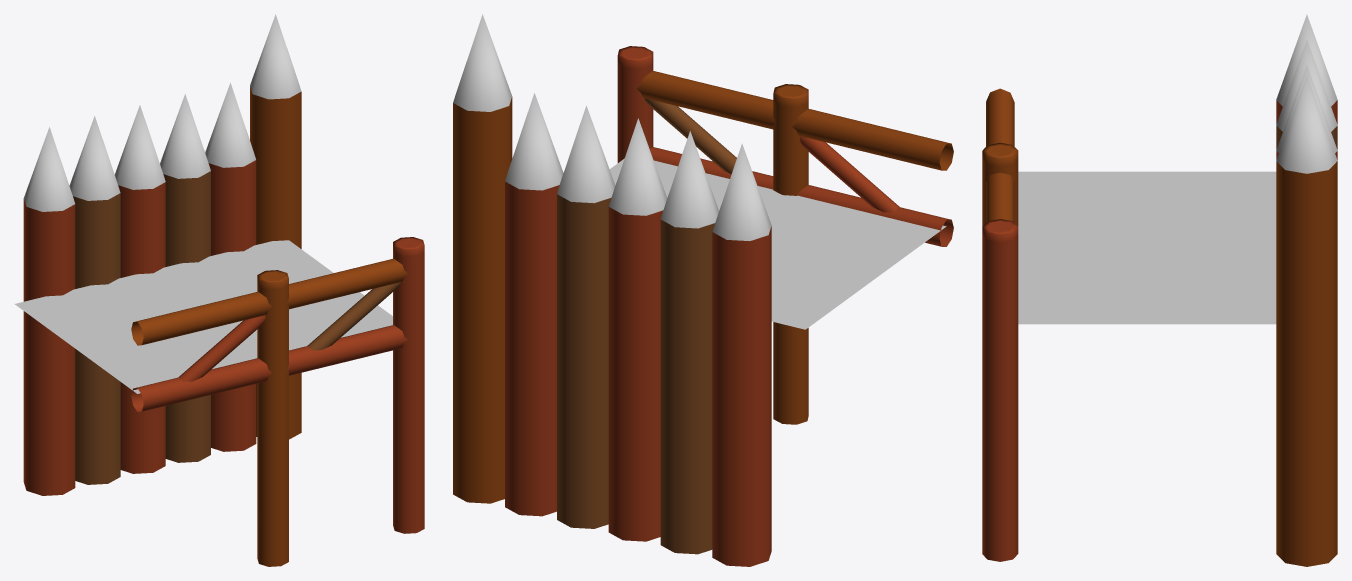
File: PalisadeWall.fbx
The picture shows the model from 3 angles, left to right: view 1: azimuth 30°, elevation 25°; view 2: azimuth 150°, elevation 25°; view 3: azimuth 270°, elevation 25°; orthographic projection. The views are drawn at different scales.
Parts seen in each view (by area): view 1: WallPoles, WallWalkway, WallPoleTips; view 2: WallPoles, WallPoleTips, WallWalkway; view 3: WallPoles, WallWalkway, WallPoleTips.
Boxes of the visible parts, bbox=[...] form: WallPoles: bbox=[23, 87, 424, 566]; WallWalkway: bbox=[15, 240, 392, 393]; WallPoleTips: bbox=[24, 14, 301, 211]; WallPoles: bbox=[453, 46, 953, 566]; WallPoleTips: bbox=[453, 14, 771, 240]; WallWalkway: bbox=[609, 158, 946, 329]; WallPoles: bbox=[982, 88, 1337, 566]; WallWalkway: bbox=[1018, 171, 1276, 324]; WallPoleTips: bbox=[1276, 14, 1337, 173].
Bounding box in the file's own units: 3.26 × 4.39 × 2.96.
